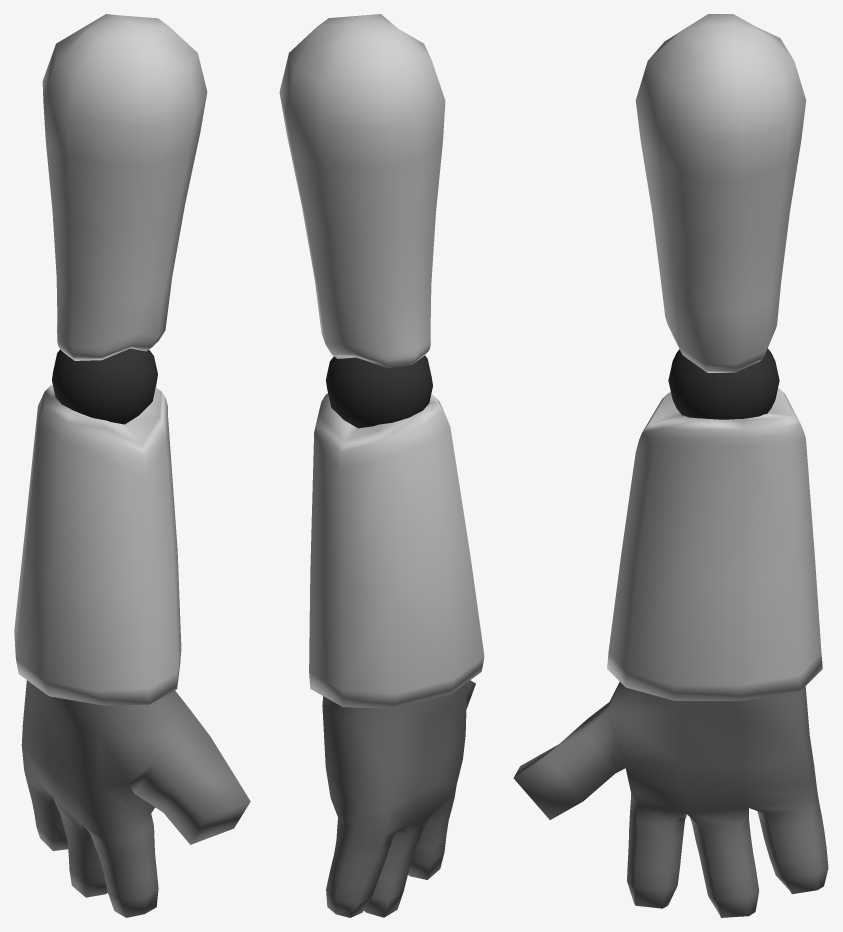
Rendered from right_hand.glb.
3 views of the same model, side by side, from view 1: azimuth 30°, elevation 25°; view 2: azimuth 150°, elevation 25°; view 3: azimuth 270°, elevation 25° (orthographic). The views are drawn at different scales.
Parts seen in each view (by area): view 1: geo_arm_bot_1.006, geo_arm_bot_1.004, geo_arm_bot_1.005, geo_arm_bot_1.007; view 2: geo_arm_bot_1.006, geo_arm_bot_1.004, geo_arm_bot_1.005, geo_arm_bot_1.007; view 3: geo_arm_bot_1.004, geo_arm_bot_1.006, geo_arm_bot_1.005, geo_arm_bot_1.007.
Boxes of the visible parts, box(x1,y1,x2,y2) form: geo_arm_bot_1.006: box(42, 14, 207, 360); geo_arm_bot_1.004: box(14, 384, 181, 705); geo_arm_bot_1.005: box(21, 680, 250, 917); geo_arm_bot_1.007: box(52, 348, 157, 424); geo_arm_bot_1.006: box(279, 14, 445, 368); geo_arm_bot_1.004: box(309, 393, 484, 708); geo_arm_bot_1.005: box(322, 680, 475, 917); geo_arm_bot_1.007: box(326, 355, 432, 428); geo_arm_bot_1.004: box(607, 388, 822, 700); geo_arm_bot_1.006: box(635, 14, 806, 372); geo_arm_bot_1.005: box(513, 682, 828, 917); geo_arm_bot_1.007: box(668, 348, 779, 419).
Size of the model in its own units: 0.0626 by 0.3045 by 0.0963.
1 material, 1 textured.
